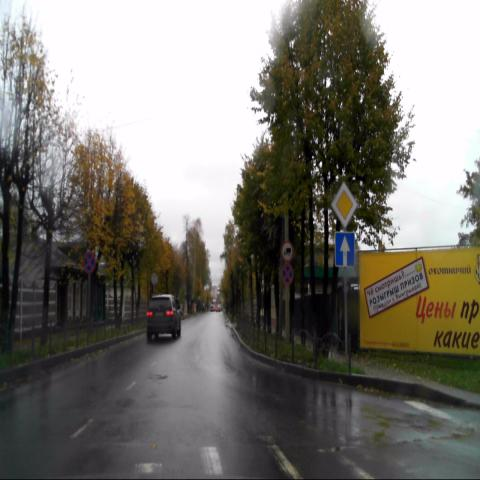3_4_1: (281, 241, 293, 262)
